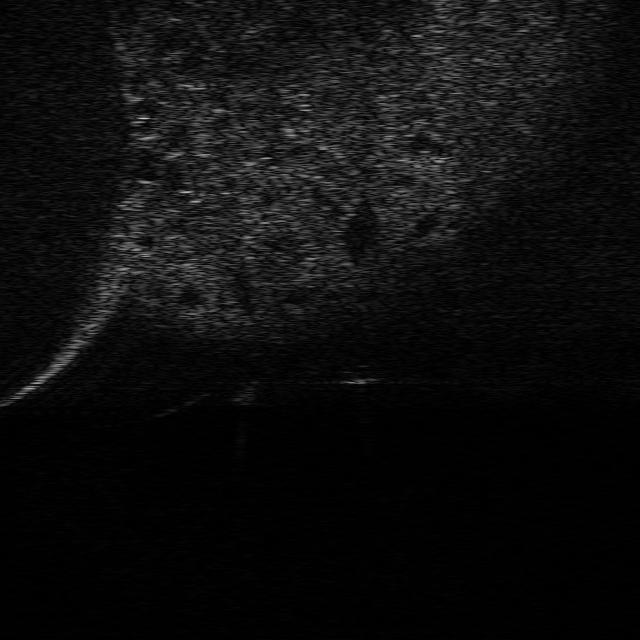cube: (339, 362, 379, 385)
cylinder: (232, 381, 258, 407)
